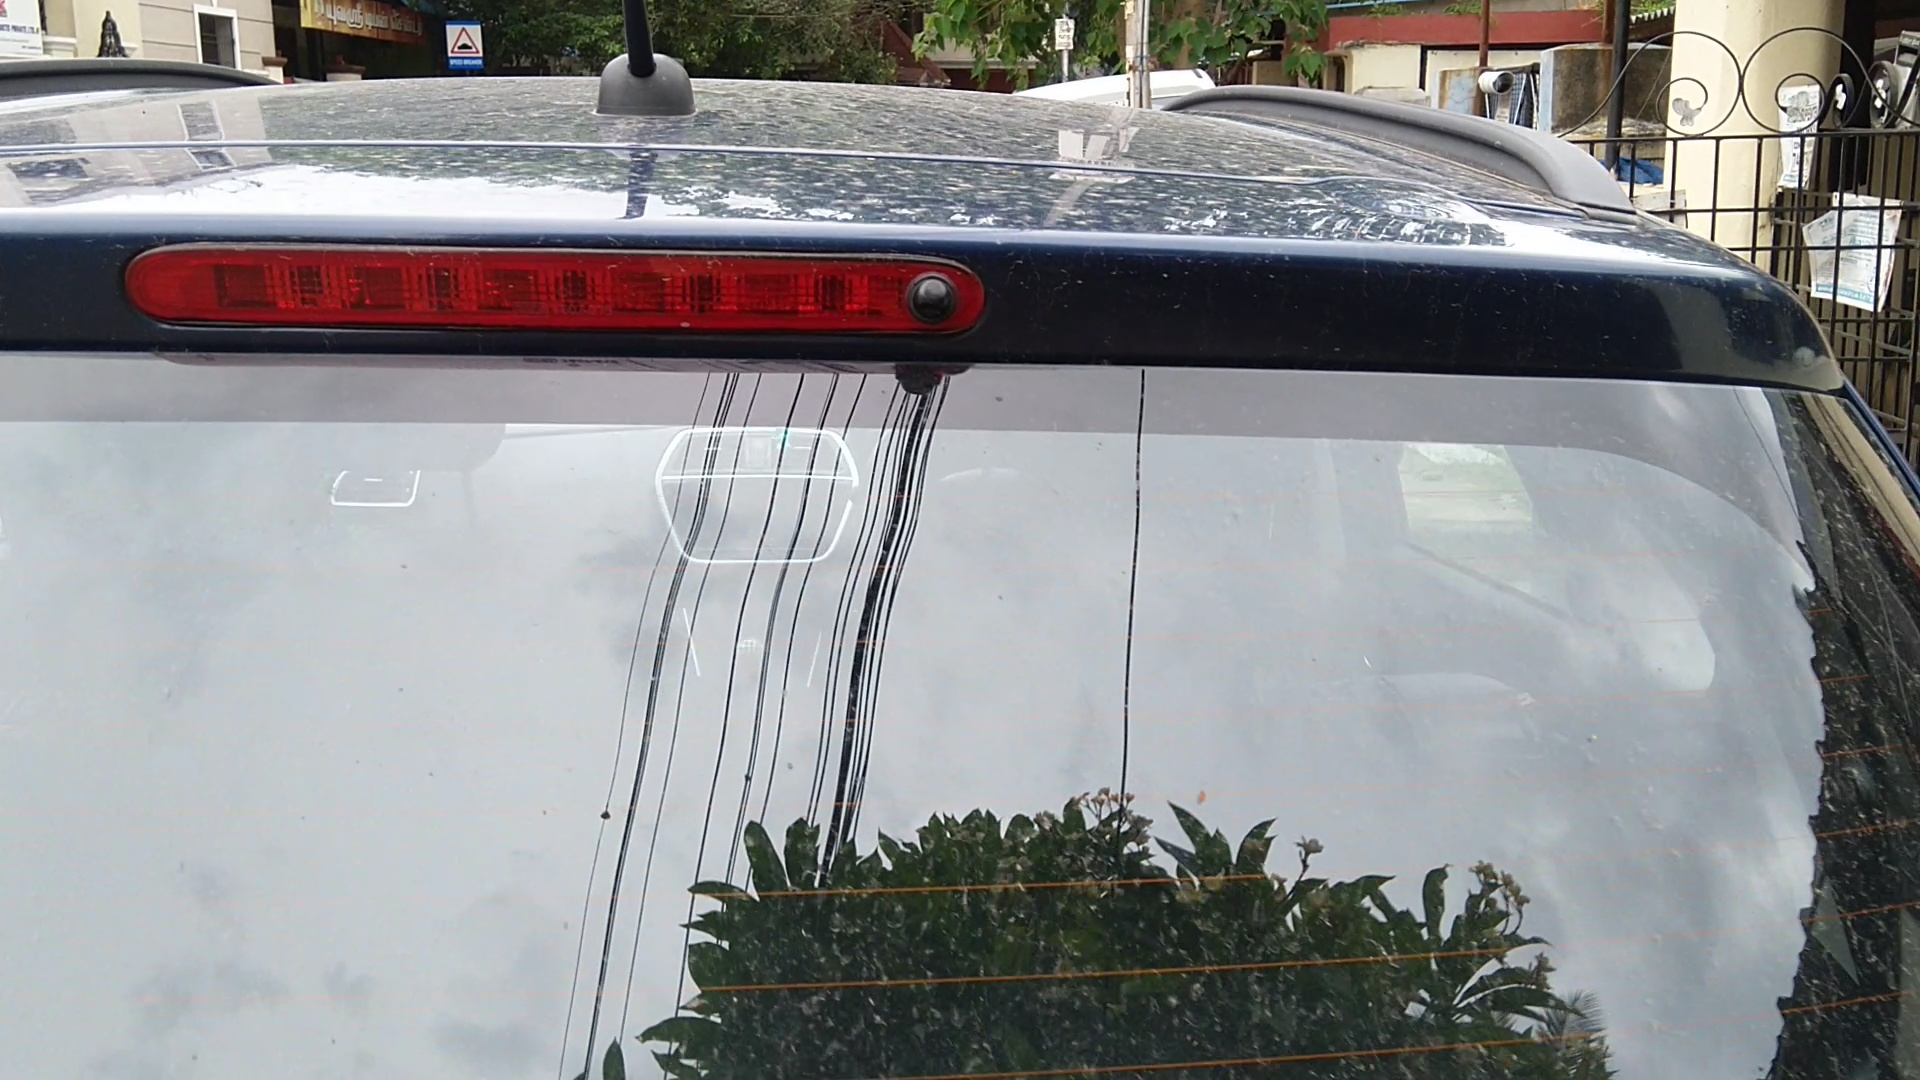rear_camera: (897, 258, 973, 334)
